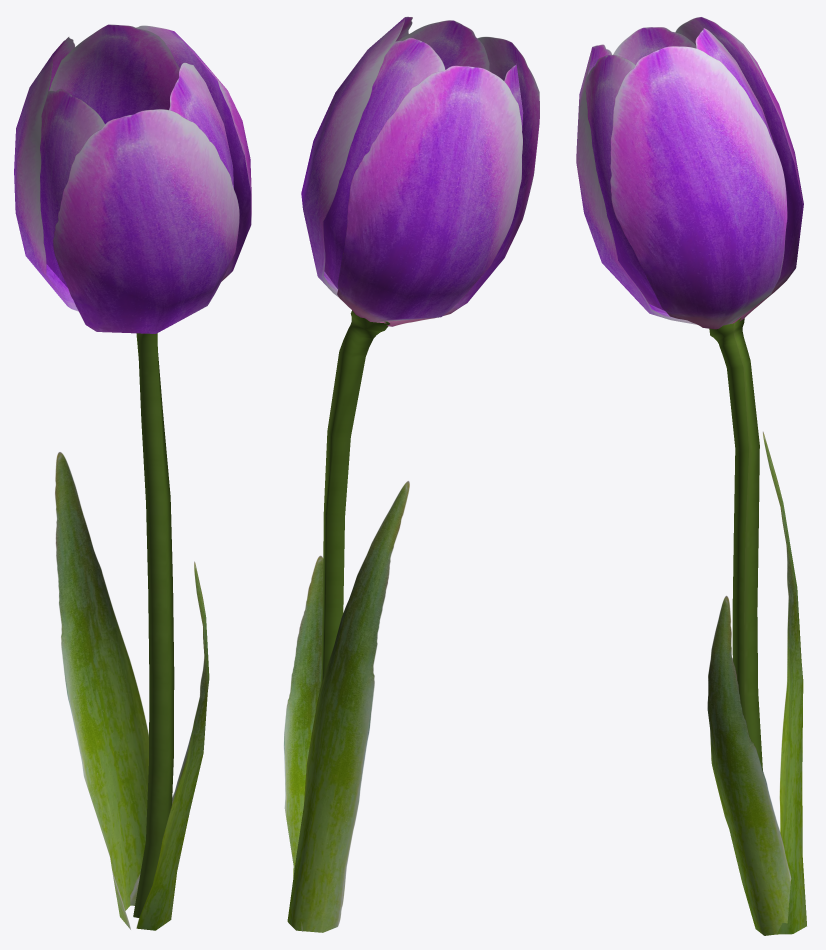
The model's file is tulip.glb.
3 renders of one model, left to right at view 1: azimuth 30°, elevation 25°; view 2: azimuth 150°, elevation 25°; view 3: azimuth 270°, elevation 25°, orthographic. The views are drawn at different scales.
Parts seen in each view (by area): view 1: Cylinder.002_tulip_transparent_1_0, Cylinder.002_tulip_opague_1_0; view 2: Cylinder.002_tulip_transparent_1_0, Cylinder.002_tulip_opague_1_0; view 3: Cylinder.002_tulip_transparent_1_0, Cylinder.002_tulip_opague_1_0.
Boxes of the visible parts, bbox=[...] form: Cylinder.002_tulip_transparent_1_0: bbox=[14, 24, 251, 930]; Cylinder.002_tulip_opague_1_0: bbox=[133, 333, 174, 917]; Cylinder.002_tulip_transparent_1_0: bbox=[284, 17, 539, 932]; Cylinder.002_tulip_opague_1_0: bbox=[320, 310, 389, 687]; Cylinder.002_tulip_transparent_1_0: bbox=[576, 17, 806, 935]; Cylinder.002_tulip_opague_1_0: bbox=[709, 318, 762, 770].
Bounding box in the file's own units: 5.29 × 21.28 × 5.34.
Materials: 2 (2 with a texture image).
